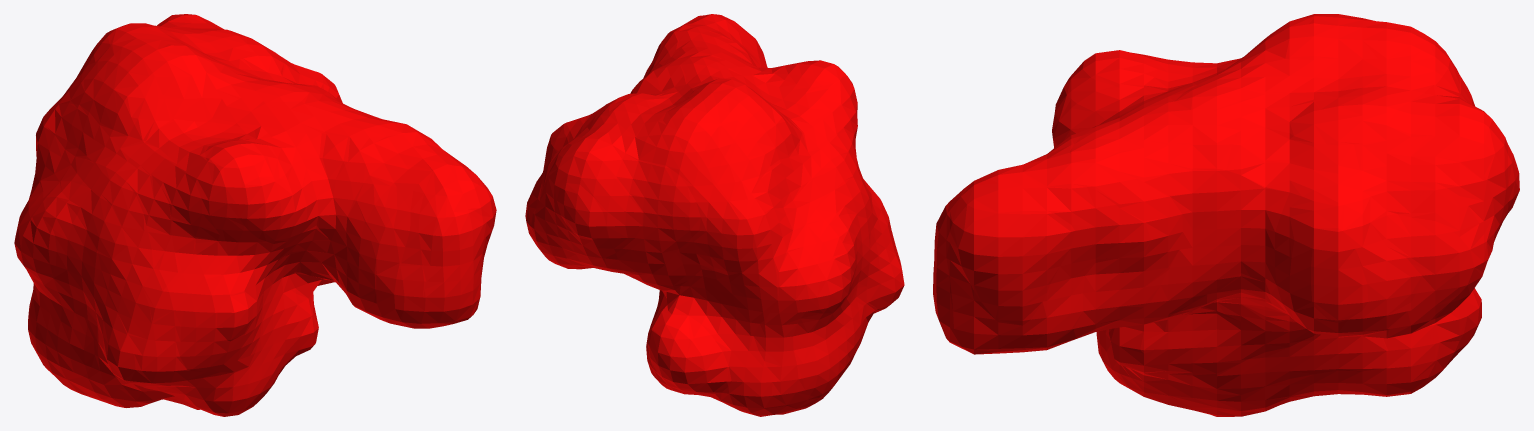
Rendered from 14_3_3_protein_epsilon_Mitocho_coarse.dae.
The picture shows the model from 3 angles, left to right: view 1: azimuth 30°, elevation 25°; view 2: azimuth 150°, elevation 25°; view 3: azimuth 270°, elevation 25°; orthographic projection. The views are drawn at different scales.
Parts seen in each view (by area): view 1: 14_3_3_protein_epsilon_Mitocho; view 2: 14_3_3_protein_epsilon_Mitocho; view 3: 14_3_3_protein_epsilon_Mitocho.
Boxes of the visible parts, box(x1,y1,x2,y2) form: 14_3_3_protein_epsilon_Mitocho: box(14, 14, 496, 416); 14_3_3_protein_epsilon_Mitocho: box(525, 14, 904, 416); 14_3_3_protein_epsilon_Mitocho: box(933, 14, 1519, 416).
Size of the model in its own units: 47.57 by 46.1 by 62.02.
